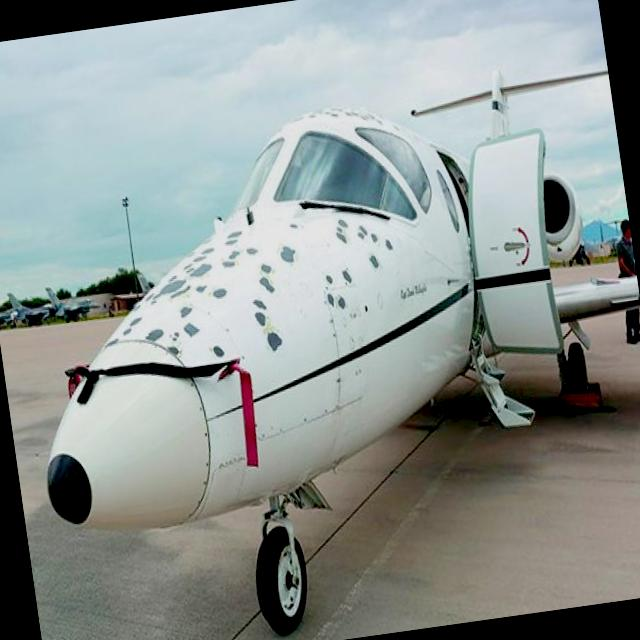dent: (158, 276, 188, 298), (190, 259, 216, 283), (171, 284, 193, 300), (244, 242, 264, 258), (182, 321, 201, 337), (212, 284, 230, 300), (210, 342, 226, 359), (146, 326, 163, 342), (228, 225, 244, 241), (260, 277, 277, 292), (102, 338, 120, 351), (336, 293, 348, 311), (267, 332, 280, 348), (334, 226, 346, 243), (383, 235, 395, 252), (342, 268, 352, 288), (280, 244, 292, 260), (369, 230, 381, 246), (192, 252, 208, 264), (146, 297, 162, 308), (195, 283, 209, 295), (336, 214, 346, 230), (326, 292, 336, 308), (223, 259, 239, 269), (166, 342, 179, 354), (129, 318, 142, 330), (202, 243, 214, 254), (125, 324, 133, 339), (258, 310, 267, 322), (230, 248, 240, 258), (324, 273, 333, 284), (356, 227, 364, 238), (359, 224, 367, 234), (371, 256, 378, 266)
